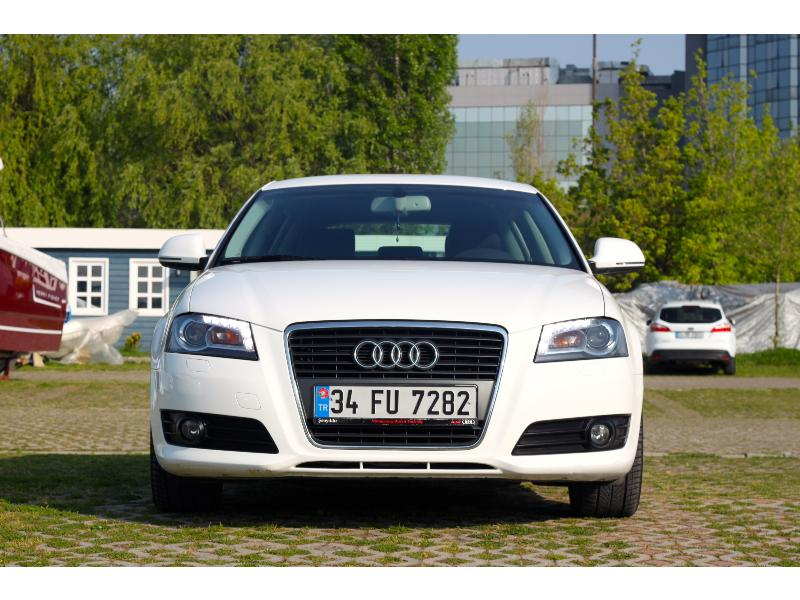audi: (344, 338, 446, 377)
